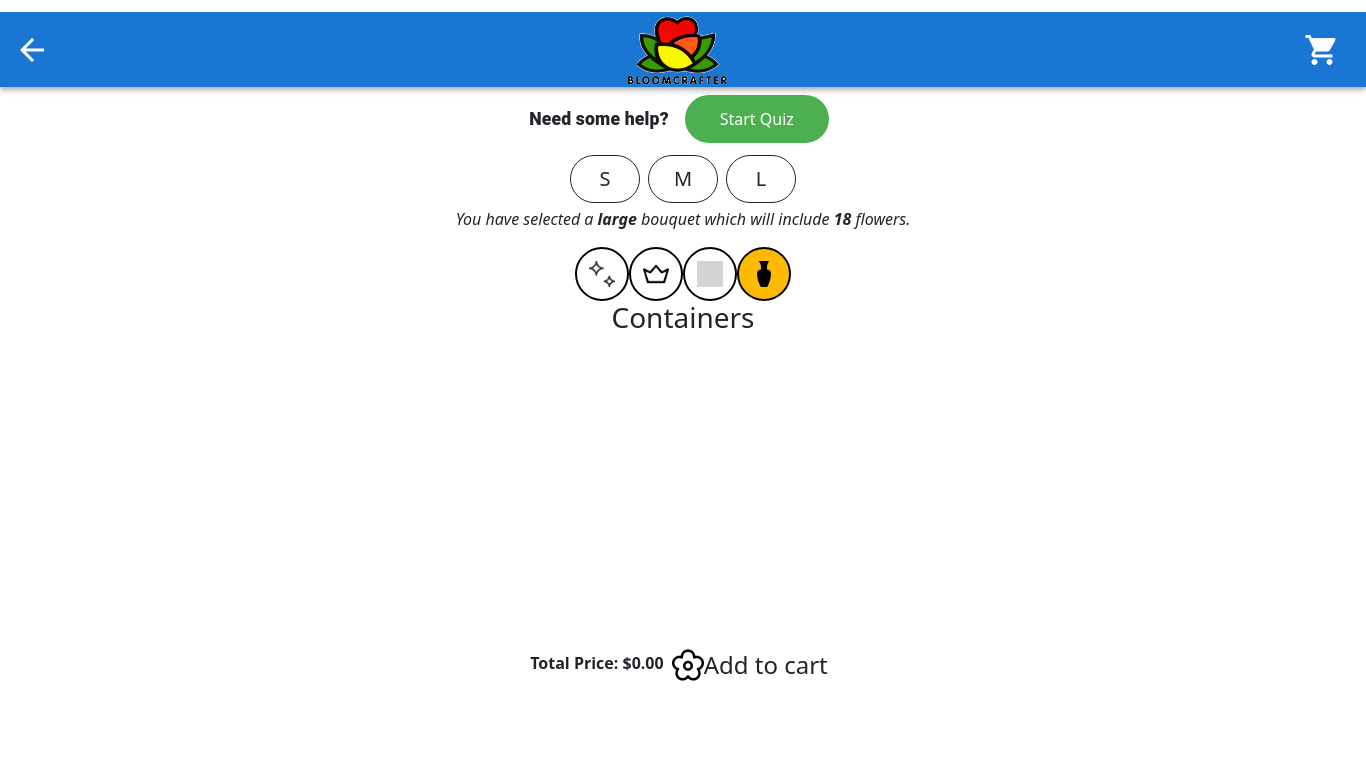
BouquetBuilder › should go to the final cart when the cart icon is clicked
This screenshot has width=1366, height=780.
Click the button with test id "cart-icon".
click(1322, 50)  # box [1302, 30, 1342, 70]
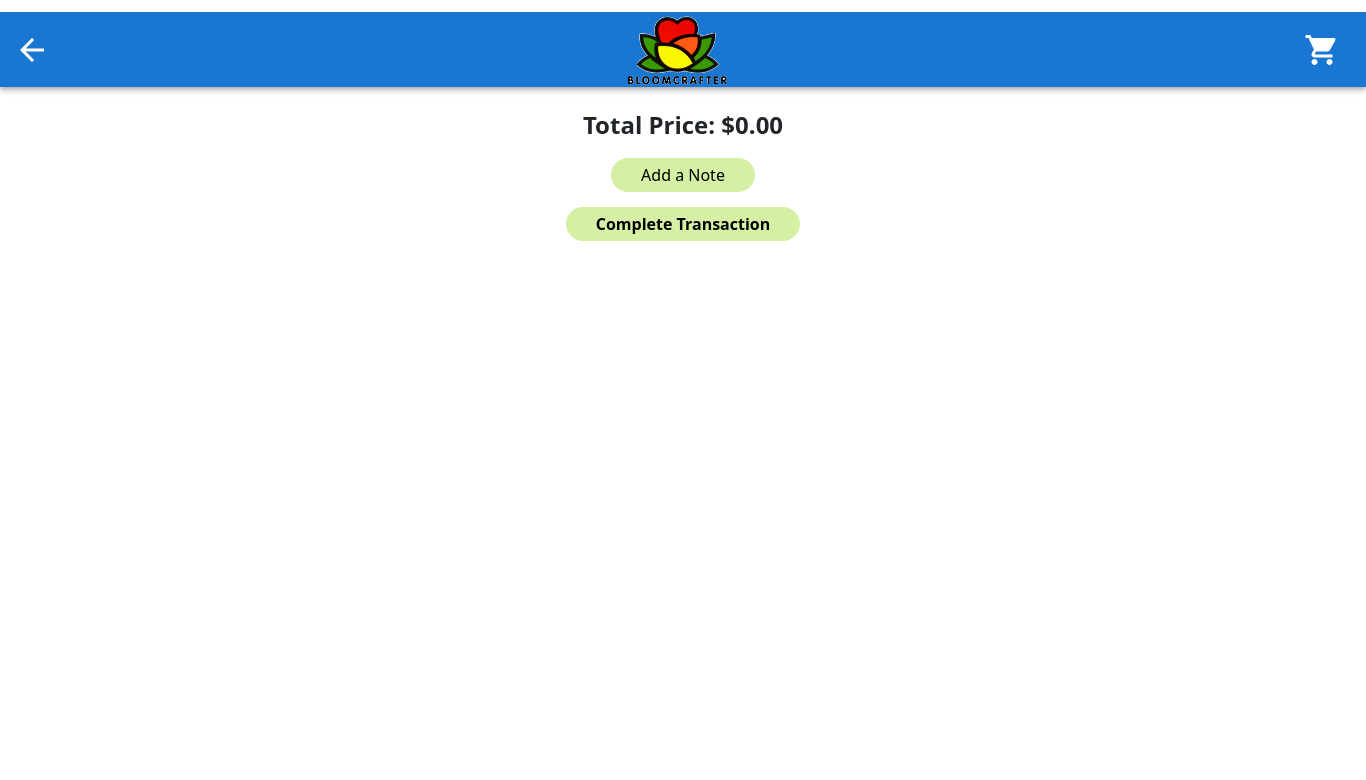
Result: the button "Complete Transaction" is shown at [566, 207, 800, 241]
